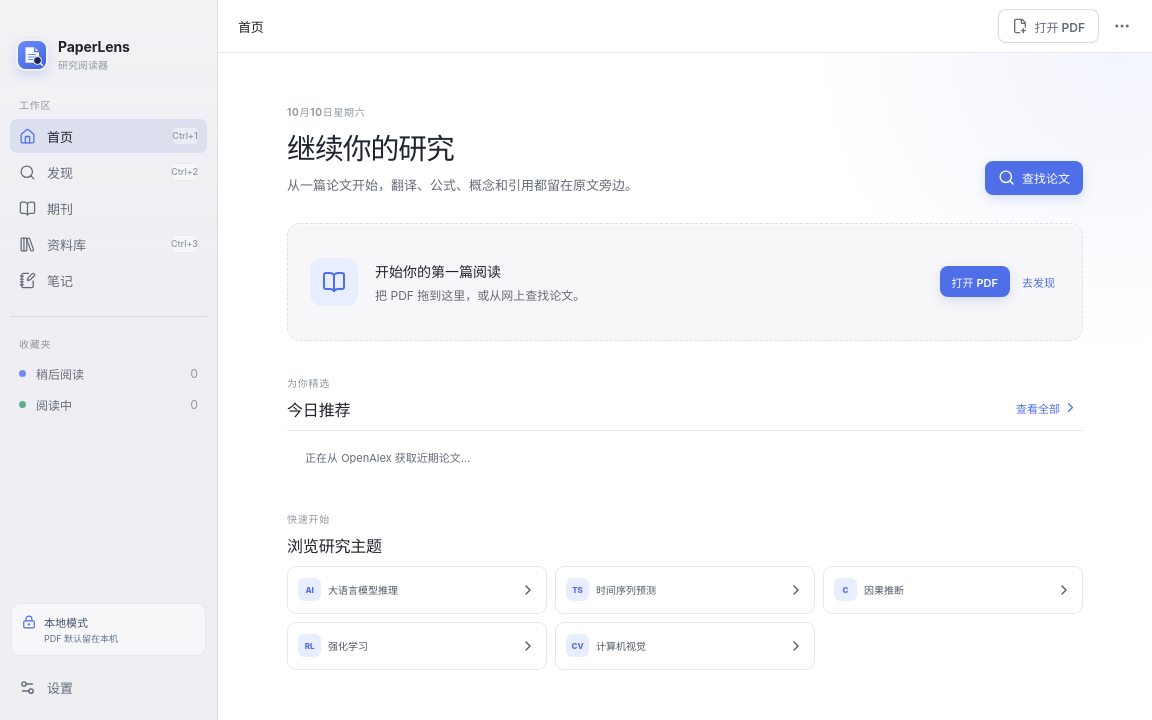
responsive paper search › displays partial results and retains the selected paper when ranking and canonical IDs change
Click the button "发现 Ctrl+2". click: (108, 172)
box: [10,155,207,189]
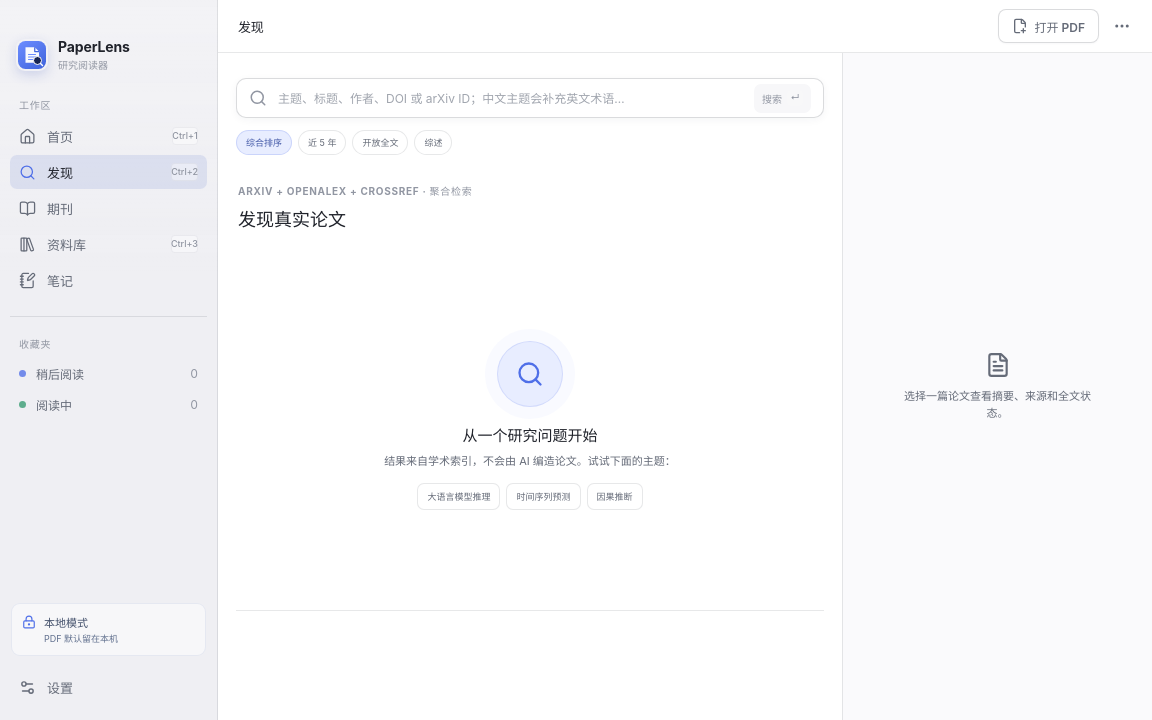
Type "attention" into the field named "搜索论文". click: (510, 98)
box: [276,79,745,117]
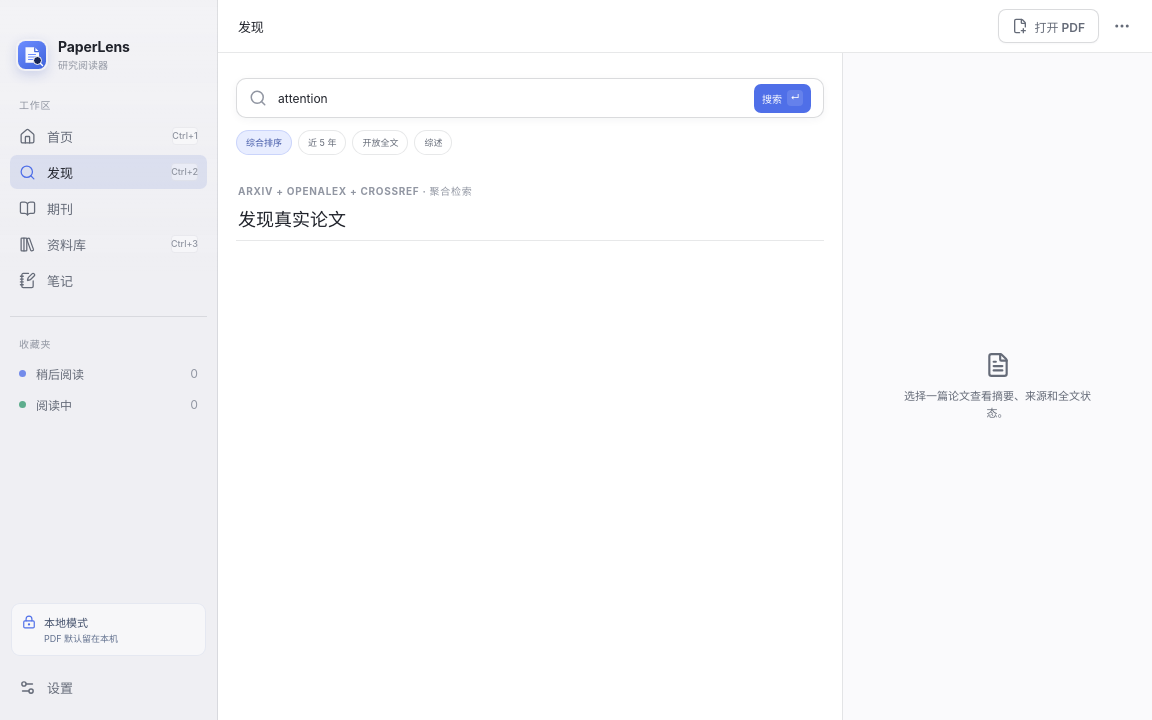
Click the button "搜索 ↵". click: (782, 98)
box: [754,84,811,112]
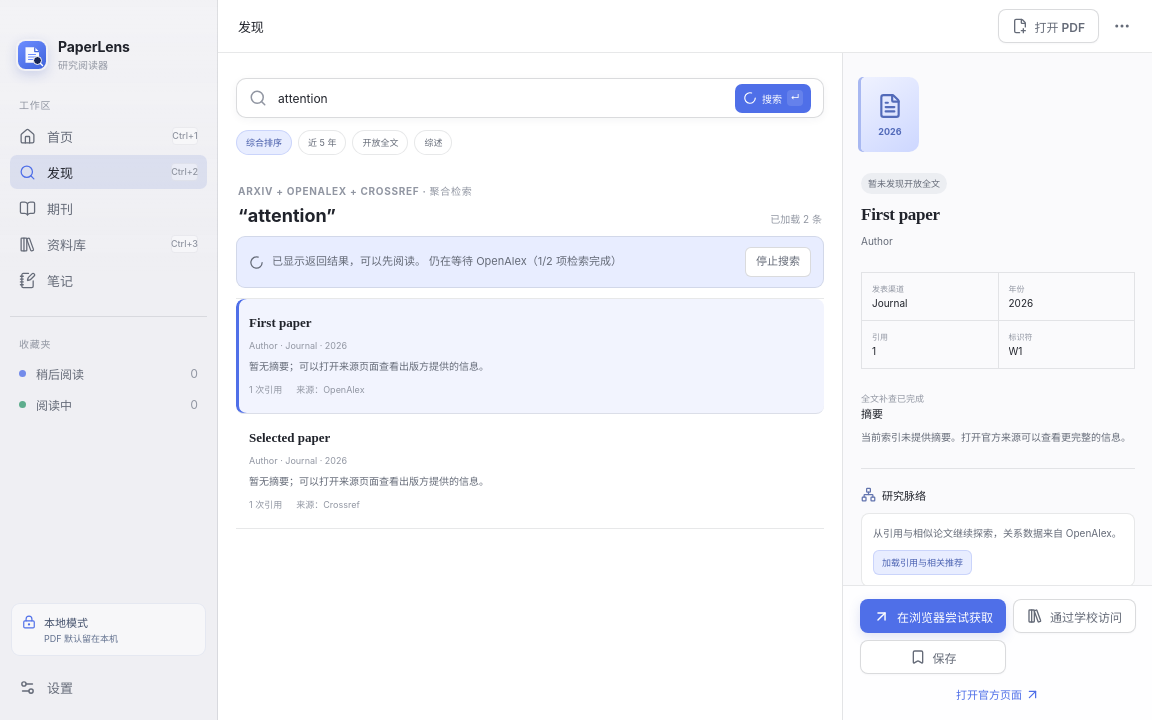
Click the button "Selected paper". click: (290, 438)
box: [236,414,824,529]
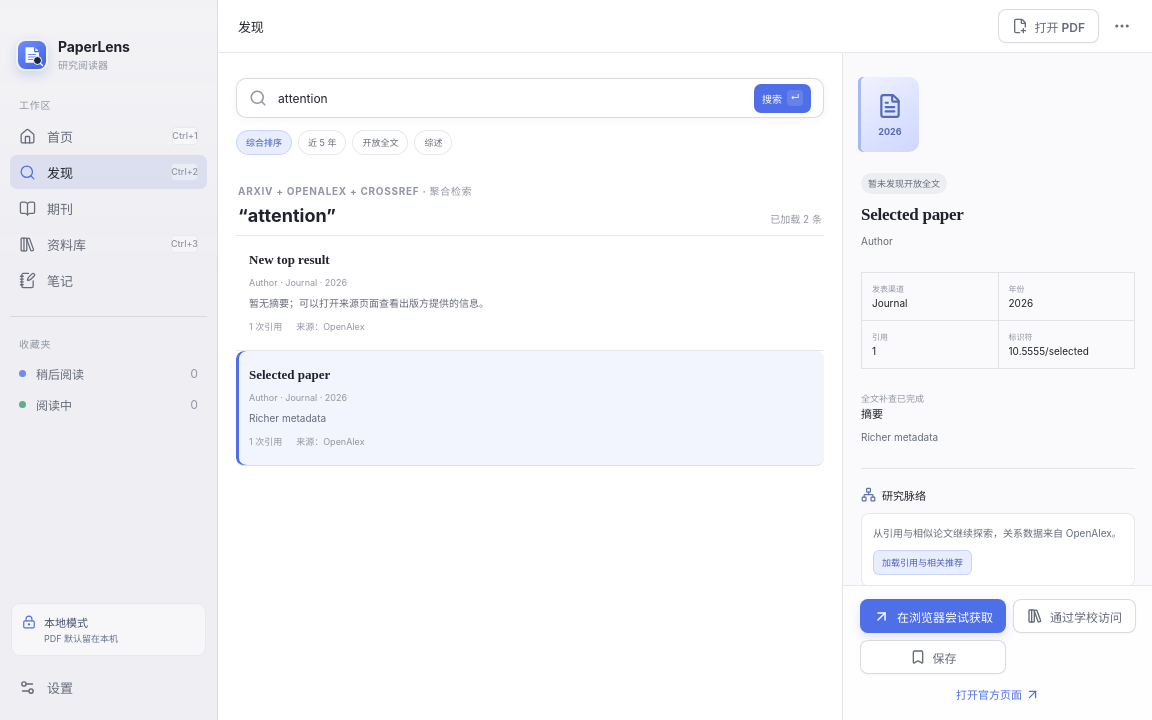
Expected: the heading "Selected paper" is shown, [861,205,964,224]
Expected: the text "Richer metadata" below "“attention”" is shown, [249,412,326,424]
Expected: the button "停止搜索" is gone
